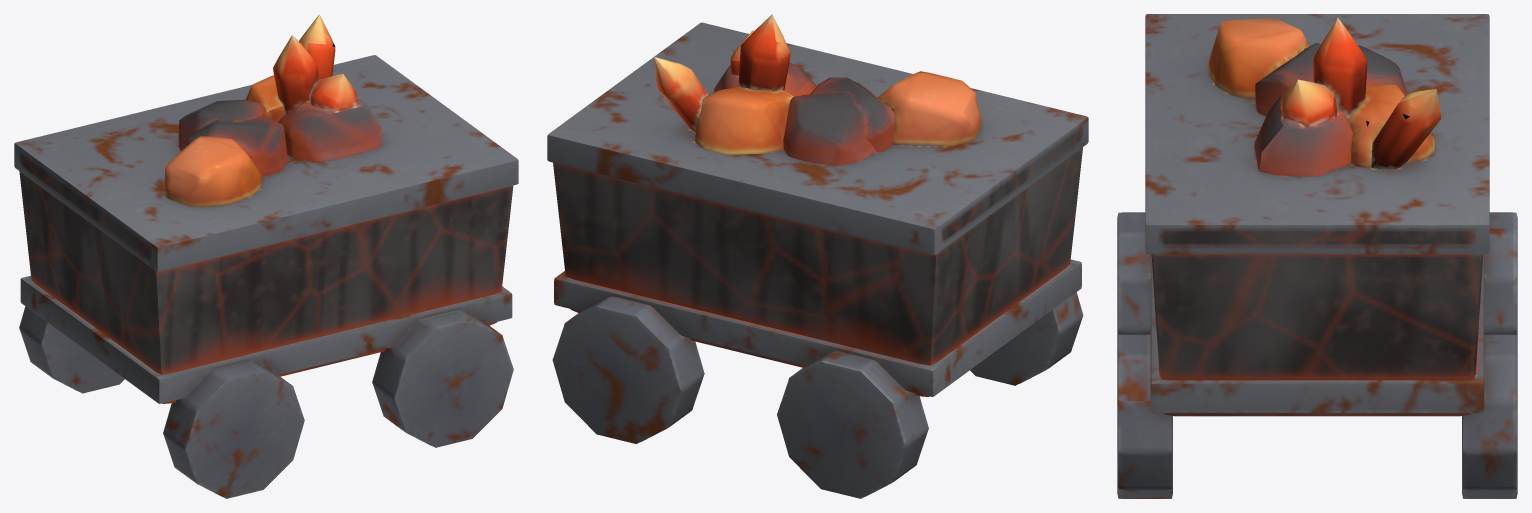
Rendered from Volcan_Chariot.fbx.
The picture shows the model from 3 angles, left to right: view 1: azimuth 30°, elevation 25°; view 2: azimuth 150°, elevation 25°; view 3: azimuth 270°, elevation 25°; orthographic projection. The views are drawn at different scales.
Visible parts, largest first — view 1: Volcan_Chariot; view 2: Volcan_Chariot; view 3: Volcan_Chariot.
Boxes of the visible parts, bbox=[...] form: Volcan_Chariot: bbox=[14, 14, 518, 498]; Volcan_Chariot: bbox=[547, 14, 1088, 498]; Volcan_Chariot: bbox=[1117, 14, 1517, 498].
Bounding box in the file's own units: 452 × 427 × 360.
Materials: 1 (1 with a texture image).
